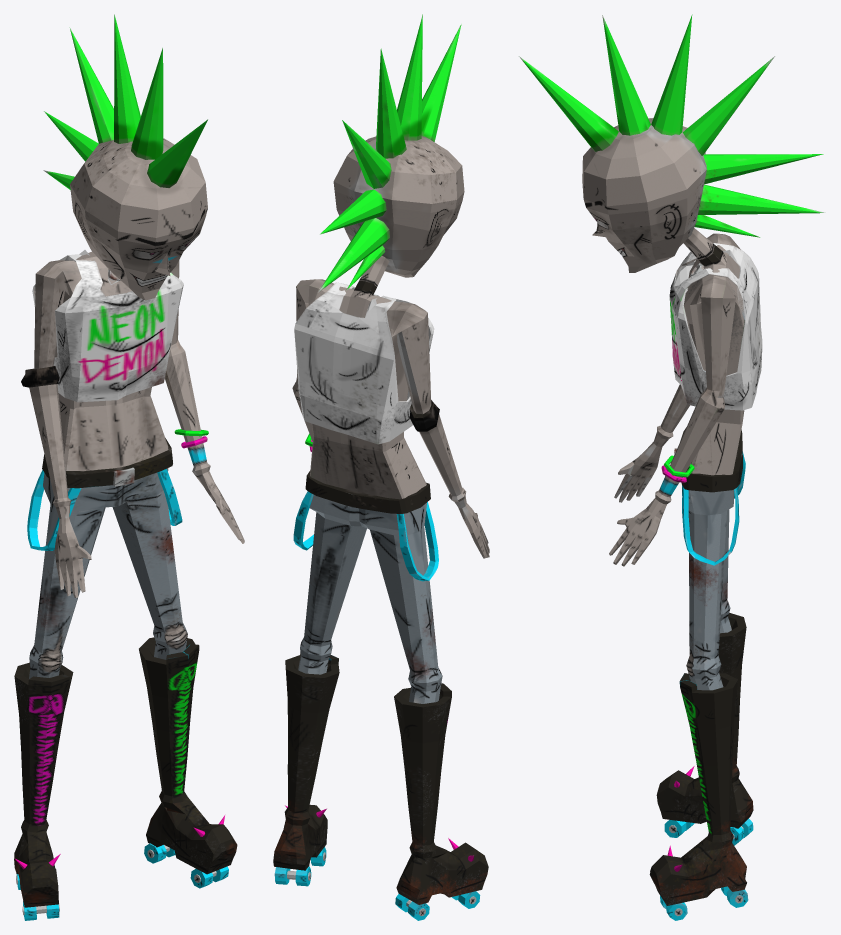
File: punkAnimation_000034.obj
3 views of the same model, side by side, from view 1: azimuth 30°, elevation 25°; view 2: azimuth 150°, elevation 25°; view 3: azimuth 270°, elevation 25° (orthographic). The views are drawn at different scales.
Parts seen in each view (by area): view 1: Cube.004_Cube.003; view 2: Cube.004_Cube.003; view 3: Cube.004_Cube.003.
Part boxes in pixels (x1,y1,x2,y2): Cube.004_Cube.003: (14, 14, 244, 920); Cube.004_Cube.003: (273, 14, 489, 920); Cube.004_Cube.003: (519, 14, 825, 920).
Size of the model in its own units: 1.85 by 7.51 by 2.44.
